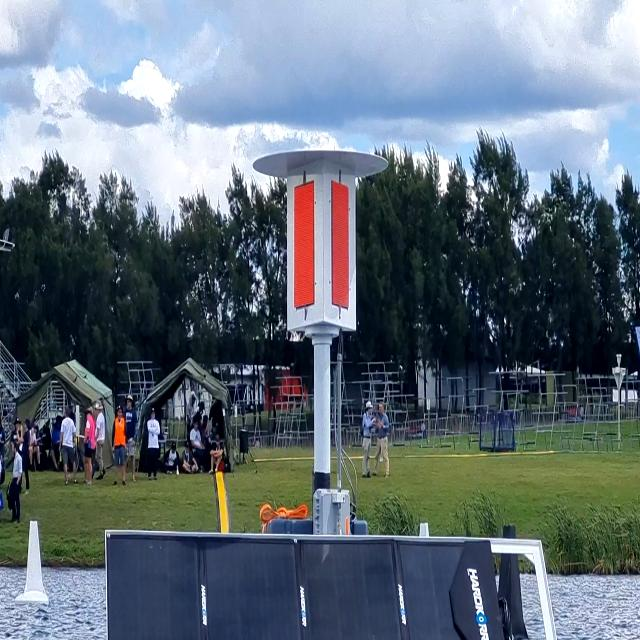led: (326, 171, 355, 319), (290, 173, 320, 316)
